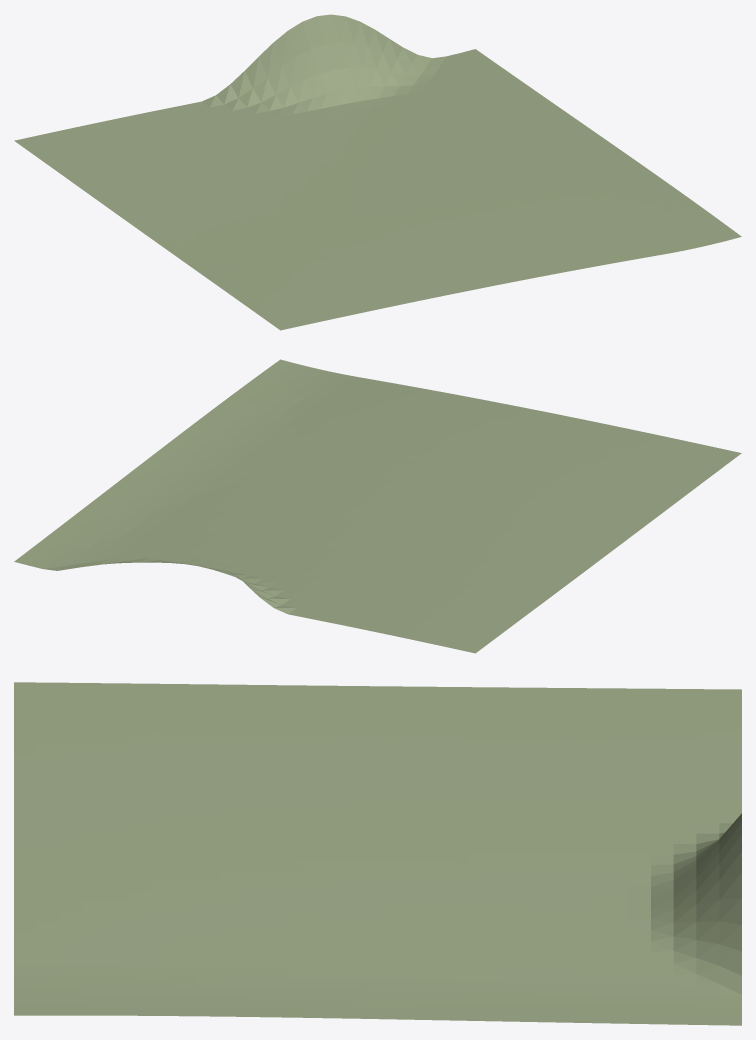
The model's file is expanse-23-13.glb.
The picture shows the model from 3 angles, top to bottom: view 1: azimuth 30°, elevation 25°; view 2: azimuth 150°, elevation 25°; view 3: azimuth 270°, elevation 25°; orthographic projection. The views are drawn at different scales.
Visible parts, largest first — view 1: expanse-23-13; view 2: expanse-23-13; view 3: expanse-23-13.
Boxes of the visible parts, bbox=[...] form: expanse-23-13: bbox=[14, 14, 741, 330]; expanse-23-13: bbox=[14, 359, 741, 653]; expanse-23-13: bbox=[14, 682, 741, 1025].
Bounding box in the file's own units: 256 × 38.05 × 256.
